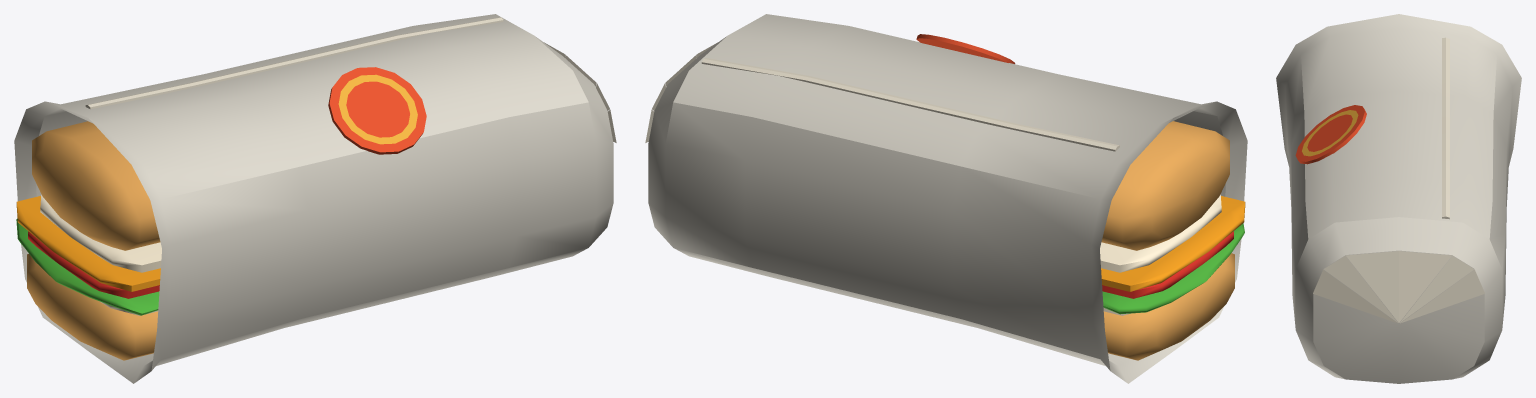
The model's file is Food_WrappedSandwich.fbx.
3 views of the same model, side by side, from view 1: azimuth 30°, elevation 25°; view 2: azimuth 150°, elevation 25°; view 3: azimuth 270°, elevation 25° (orthographic). The views are drawn at different scales.
Visible parts, largest first — view 1: Paper, Crust, Sticker, Cheese, Seam, Lettuce, Crumb, StickerRing, Tomato; view 2: Paper, Crust, Cheese, Seam, Lettuce, Crumb, Tomato, Sticker; view 3: Paper, Seam, Sticker, StickerRing.
Part boxes in pixels (x1,y1,x2,y2): Paper: [14, 14, 613, 383]; Crust: [27, 121, 160, 360]; Sticker: [328, 67, 426, 154]; Cheese: [16, 196, 160, 291]; Seam: [85, 17, 616, 142]; Lettuce: [16, 218, 159, 315]; Crumb: [40, 194, 161, 315]; StickerRing: [338, 74, 417, 144]; Tomato: [28, 231, 159, 298]; Paper: [648, 14, 1247, 383]; Crust: [1101, 121, 1234, 360]; Cheese: [1101, 196, 1245, 291]; Seam: [645, 42, 1119, 151]; Lettuce: [1102, 223, 1244, 314]; Crumb: [1100, 194, 1221, 315]; Tomato: [1102, 231, 1233, 298]; Sticker: [916, 34, 1015, 63]; Paper: [1276, 14, 1521, 383]; Seam: [1313, 37, 1484, 323]; Sticker: [1295, 105, 1366, 164]; StickerRing: [1302, 110, 1358, 156].
Size of the model in its own units: 228 by 97.73 by 110.
